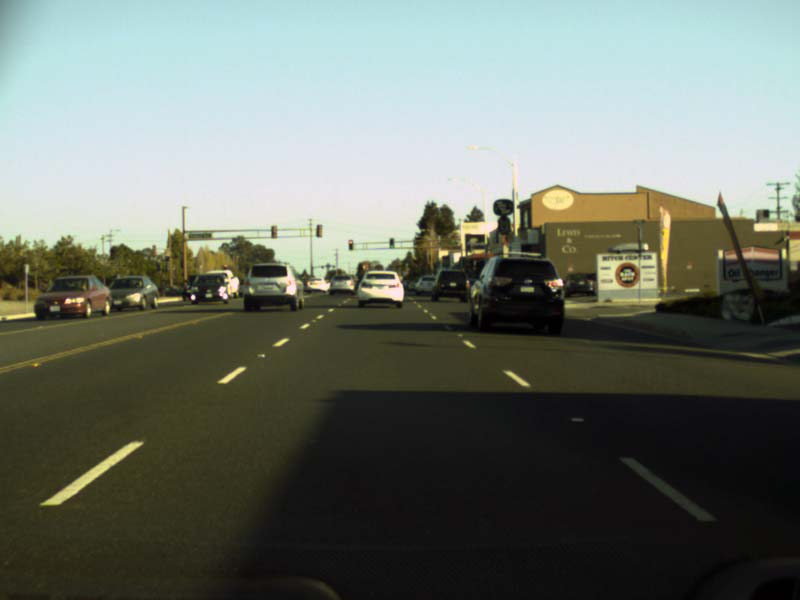Green: (388, 238, 394, 248)
Red: (348, 239, 353, 250)
